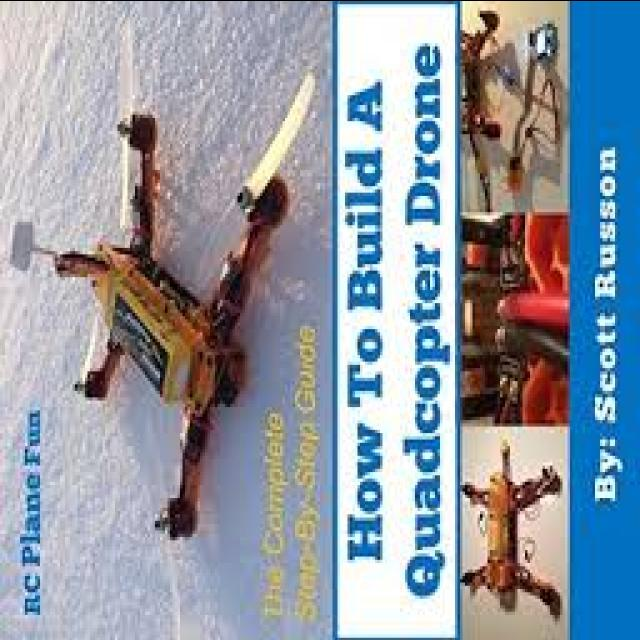drone: (40, 59, 324, 568), (458, 440, 566, 620)
